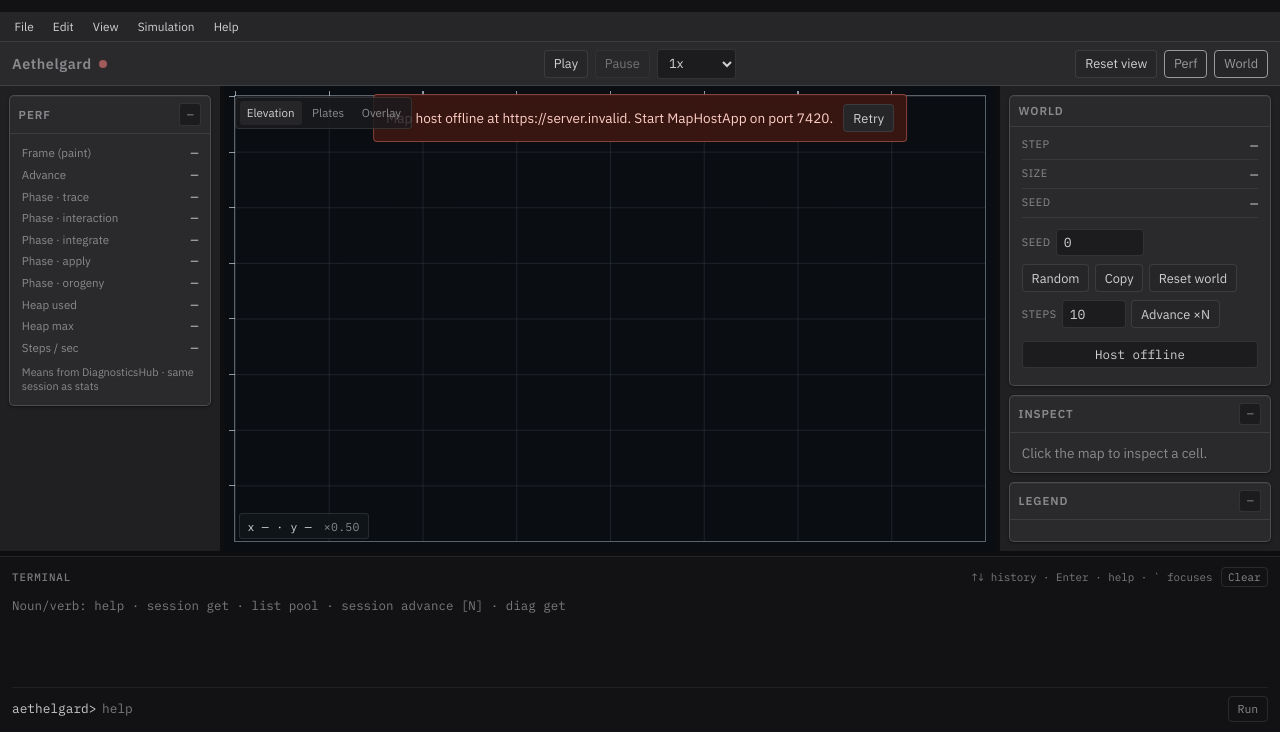
Test: offline › shows a red dot and a banner with Retry, and Retry brings the world back with a green dot
Expected: the element named "Host offline" is shown, [99,60,107,68]
Click the button "Retry" at (869, 118), box [844,104,894,132]
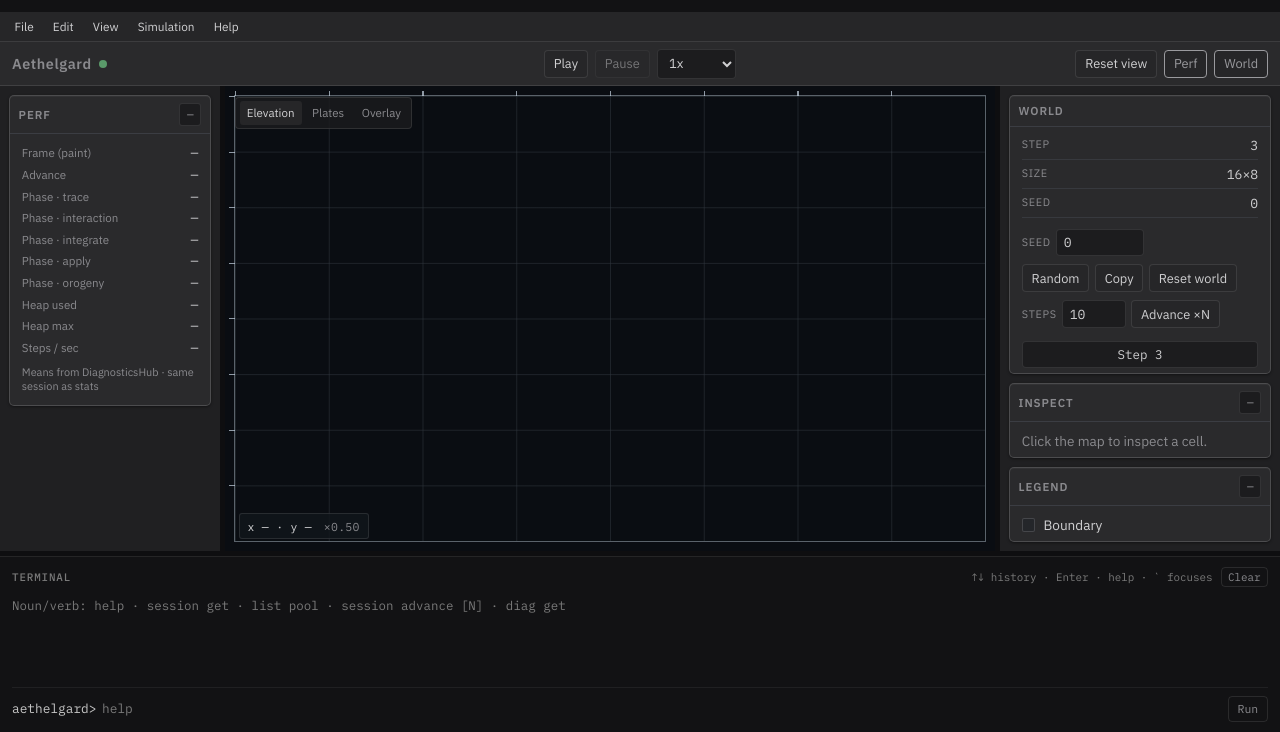
Expected: the message is gone
Expected: the element named "Host online" is shown, [99,60,107,68]
